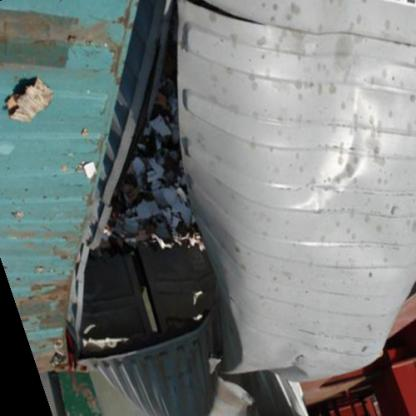Damage: (58, 31, 218, 328)
